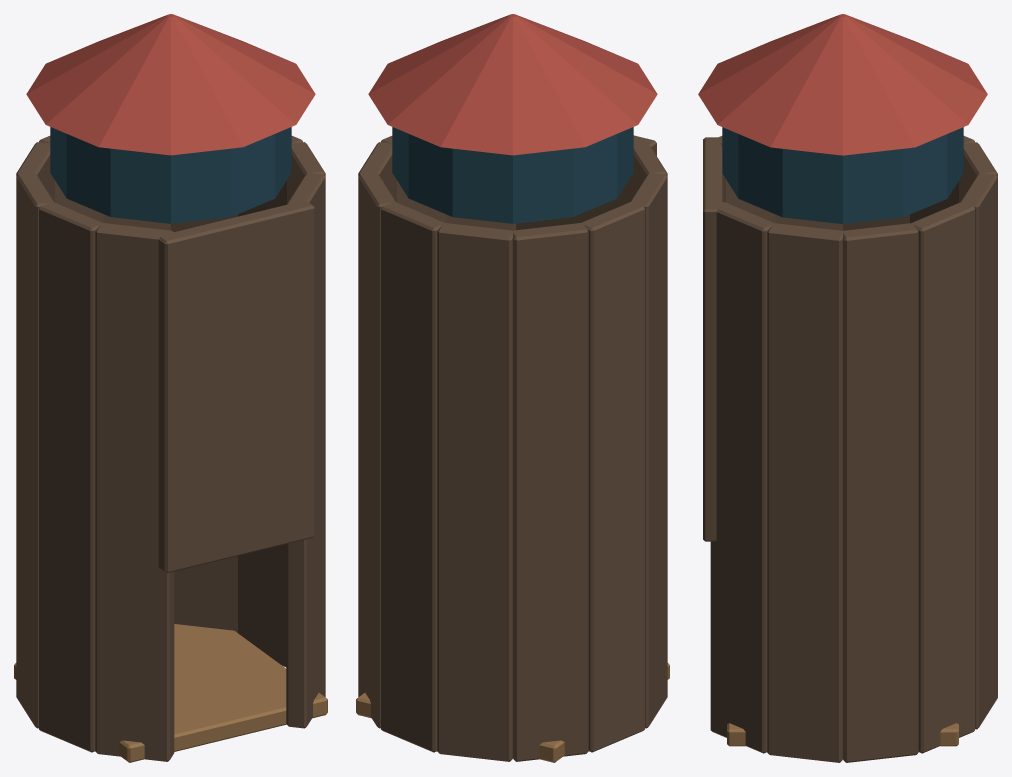
File: harbor-watchtower.lod0.glb
The picture shows the model from 3 angles, left to right: view 1: azimuth 30°, elevation 25°; view 2: azimuth 150°, elevation 25°; view 3: azimuth 270°, elevation 25°; orthographic projection.
Visible parts, largest first — view 1: harbor-watchtower__body, harbor-watchtower__front-wall, harbor-watchtower__roof; view 2: harbor-watchtower__body, harbor-watchtower__roof, harbor-watchtower__front-wall; view 3: harbor-watchtower__body, harbor-watchtower__roof, harbor-watchtower__front-wall.
Part boxes in pixels (x1,y1,x2,y2): harbor-watchtower__body: (14, 127, 327, 762); harbor-watchtower__front-wall: (158, 200, 314, 573); harbor-watchtower__roof: (26, 14, 315, 155); harbor-watchtower__body: (356, 127, 669, 762); harbor-watchtower__roof: (368, 14, 657, 155); harbor-watchtower__front-wall: (516, 135, 656, 230); harbor-watchtower__body: (710, 127, 997, 762); harbor-watchtower__roof: (698, 14, 987, 155); harbor-watchtower__front-wall: (703, 137, 722, 541).
Size of the model in its own units: 3.21 by 7.8 by 3.1.
